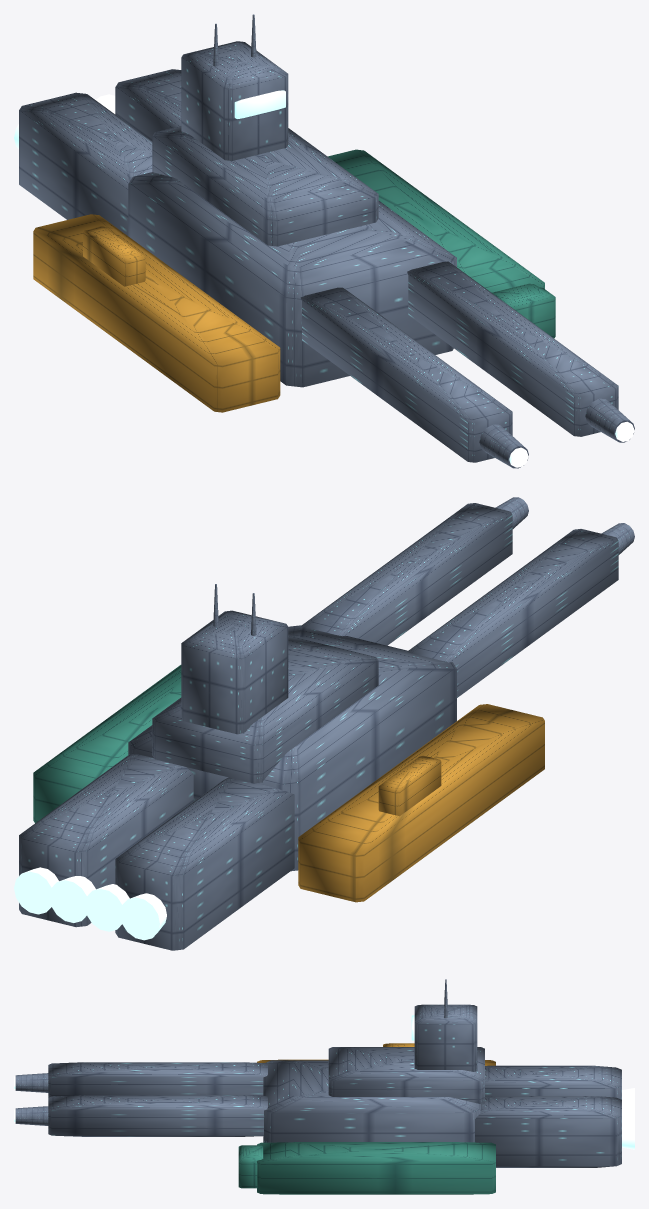
Rendered from sdf1_macross.glb.
The picture shows the model from 3 angles, top to bottom: view 1: azimuth 30°, elevation 25°; view 2: azimuth 150°, elevation 25°; view 3: azimuth 270°, elevation 25°; orthographic projection. The views are drawn at different scales.
Visible parts, largest first — view 1: sdf1_core, sdf1_prometheus, sdf1_legs, sdf1_boom_l, sdf1_boom_r, sdf1_bridge, sdf1_daedalus; view 2: sdf1_legs, sdf1_core, sdf1_prometheus, sdf1_boom_l, sdf1_boom_r, sdf1_bridge, sdf1_daedalus; view 3: sdf1_core, sdf1_legs, sdf1_daedalus, sdf1_boom_r, sdf1_boom_l, sdf1_bridge, sdf1_prometheus.
Boxes of the visible parts, left/top/right/bottom form: sdf1_core: left=128, top=126, right=456, bottom=387; sdf1_prometheus: left=33, top=214, right=280, bottom=412; sdf1_legs: left=14, top=69, right=181, bottom=235; sdf1_boom_l: left=300, top=287, right=528, bottom=468; sdf1_boom_r: left=407, top=261, right=634, bottom=442; sdf1_bridge: left=181, top=14, right=288, bottom=160; sdf1_daedalus: left=328, top=149, right=555, bottom=338; sdf1_legs: left=14, top=753, right=294, bottom=950; sdf1_core: left=128, top=625, right=456, bottom=871; sdf1_prometheus: left=298, top=704, right=544, bottom=902; sdf1_boom_l: left=407, top=523, right=634, bottom=697; sdf1_boom_r: left=301, top=497, right=528, bottom=645; sdf1_bridge: left=181, top=584, right=288, bottom=734; sdf1_daedalus: left=33, top=665, right=181, bottom=823; sdf1_core: left=263, top=1047, right=484, bottom=1142; sdf1_legs: left=475, top=1065, right=634, bottom=1167; sdf1_daedalus: left=238, top=1142, right=495, bottom=1194; sdf1_boom_r: left=14, top=1095, right=267, bottom=1136; sdf1_boom_l: left=14, top=1062, right=267, bottom=1097; sdf1_bridge: left=411, top=979, right=477, bottom=1071; sdf1_prometheus: left=257, top=1043, right=495, bottom=1065.
Bounding box in the file's own units: 56.2 × 41.6 × 143.
Materials: 11 (7 with a texture image).
